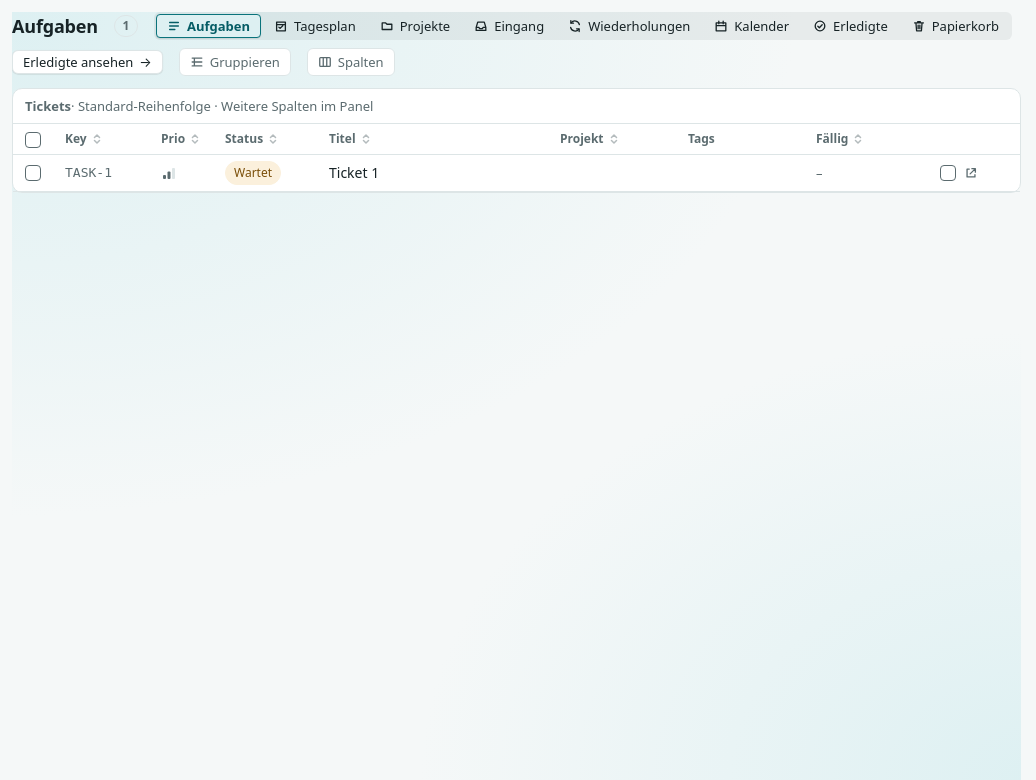
it: ticket table › checks a ticket, removes the row and restores the previous status from the flag (UI-5)
Click the checkbox named "TASK-1 erledigt". click: (948, 173)
box: [940,165,956,181]
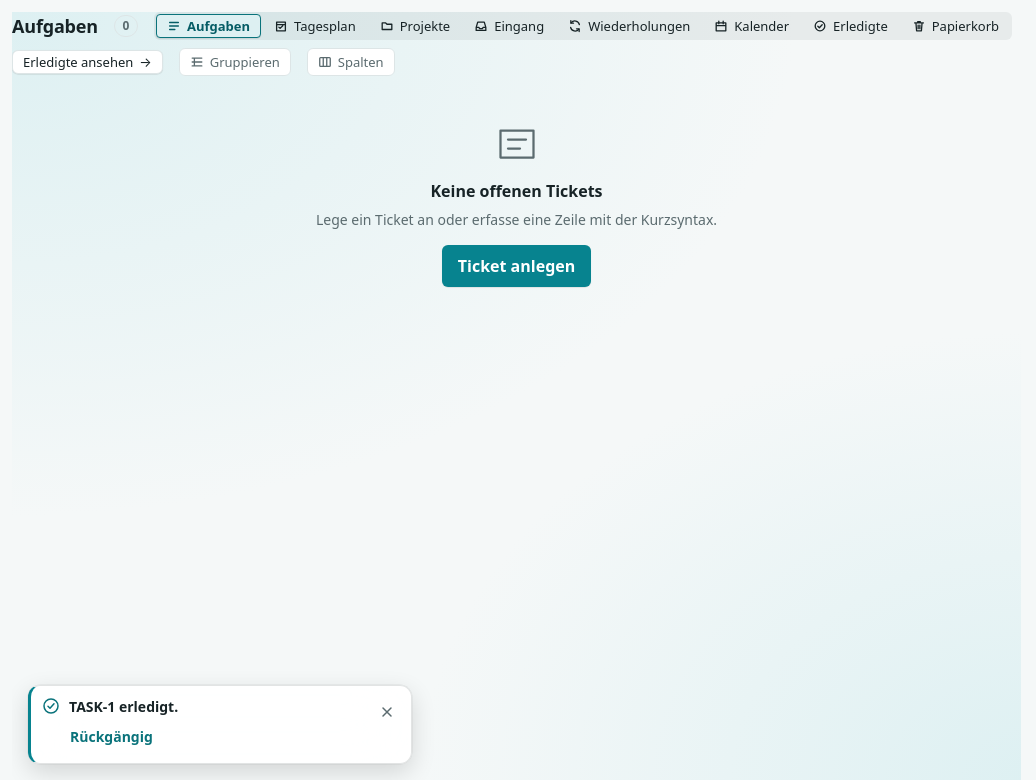
Click the button "Rückgängig". click: (111, 736)
box: [59,720,164,753]
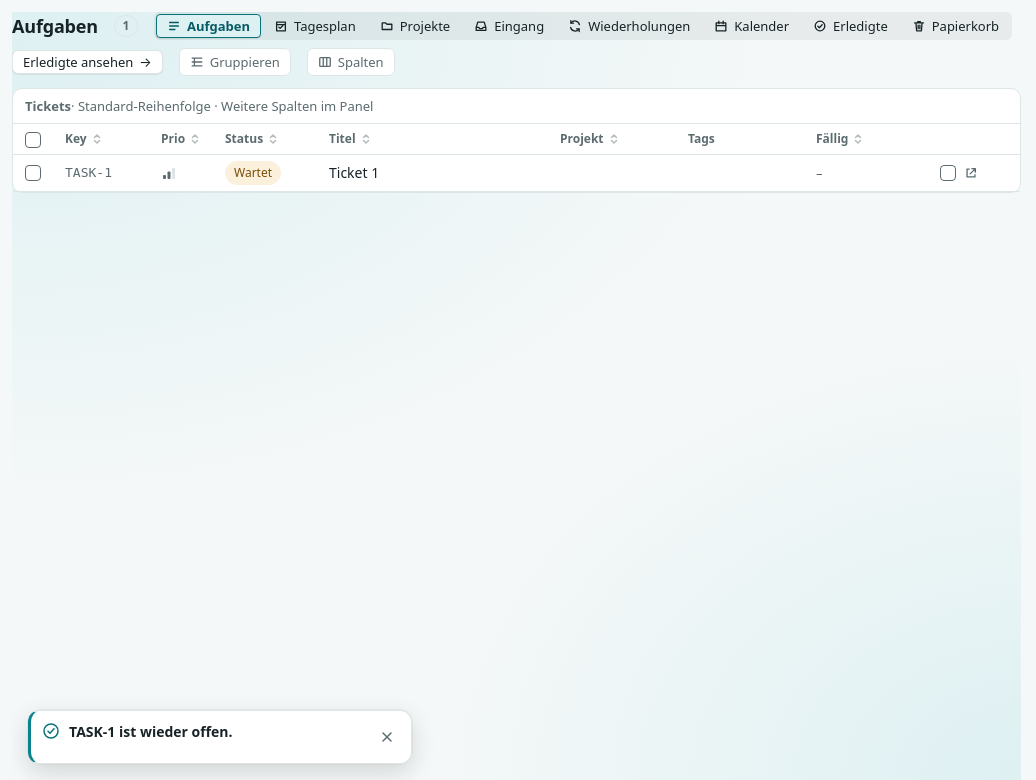
Expected: the text "Wartet" is shown, [225,161,281,185]
Expected: the button "Rückgängig" is gone
